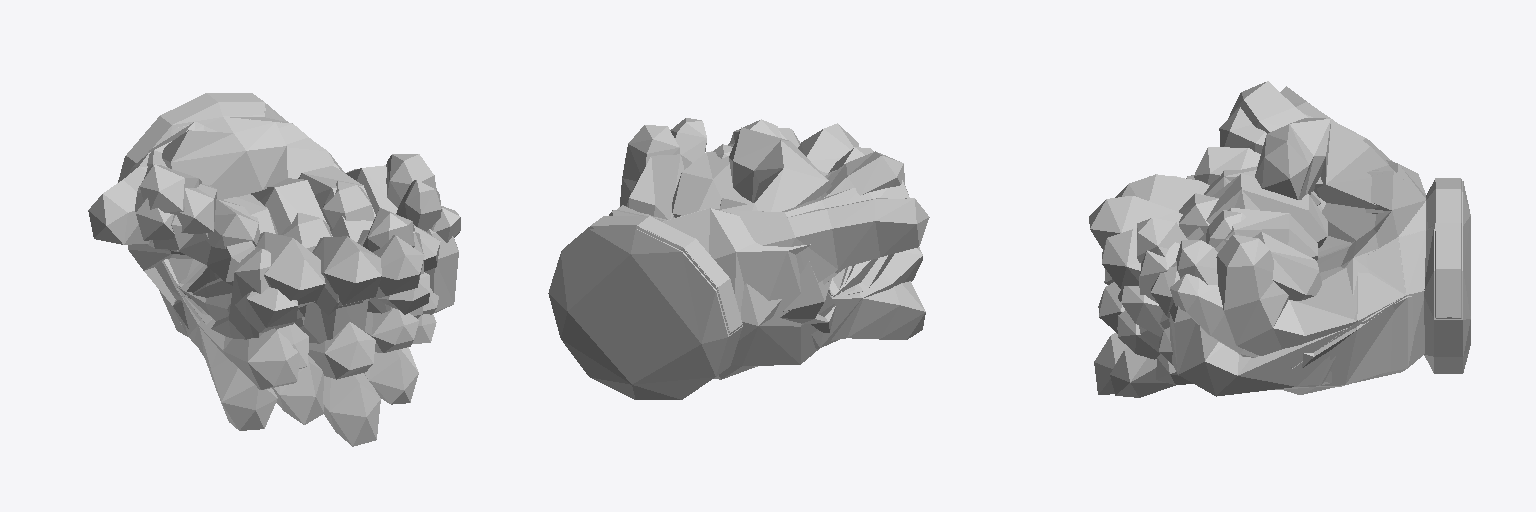
File: Right Hand.obj
3 views of the same model, side by side, from view 1: azimuth 30°, elevation 25°; view 2: azimuth 150°, elevation 25°; view 3: azimuth 270°, elevation 25° (orthographic).
Visible parts, largest first — view 1: fist, stretch, push, point, fly, hold, grab, open; view 2: fist, stretch, grab, point, push, open, hold; view 3: fist, push, point, grab, open, hold, stretch, fly.
Boxes of the visible parts, box(x1,y1,x2,y2) form: fist: box(118, 106, 397, 336); stretch: box(88, 93, 460, 430); push: box(128, 103, 440, 328); point: box(139, 154, 436, 389); fly: box(161, 240, 436, 446); hold: box(174, 162, 441, 332); grab: box(144, 117, 458, 343); open: box(135, 93, 438, 368); fist: box(548, 127, 847, 399); stretch: box(614, 198, 929, 340); grab: box(552, 143, 893, 332); point: box(588, 125, 922, 348); push: box(624, 123, 873, 366); open: box(575, 180, 909, 334); hold: box(642, 118, 877, 296); fist: box(1186, 118, 1470, 394); push: box(1089, 147, 1459, 389); point: box(1104, 81, 1405, 355); grab: box(1139, 160, 1461, 396); open: box(1099, 113, 1460, 364); hold: box(1137, 107, 1356, 318); stretch: box(1098, 86, 1460, 357); fly: box(1094, 175, 1460, 397).
Size of the model in its own units: 37.28 by 28.31 by 38.93.